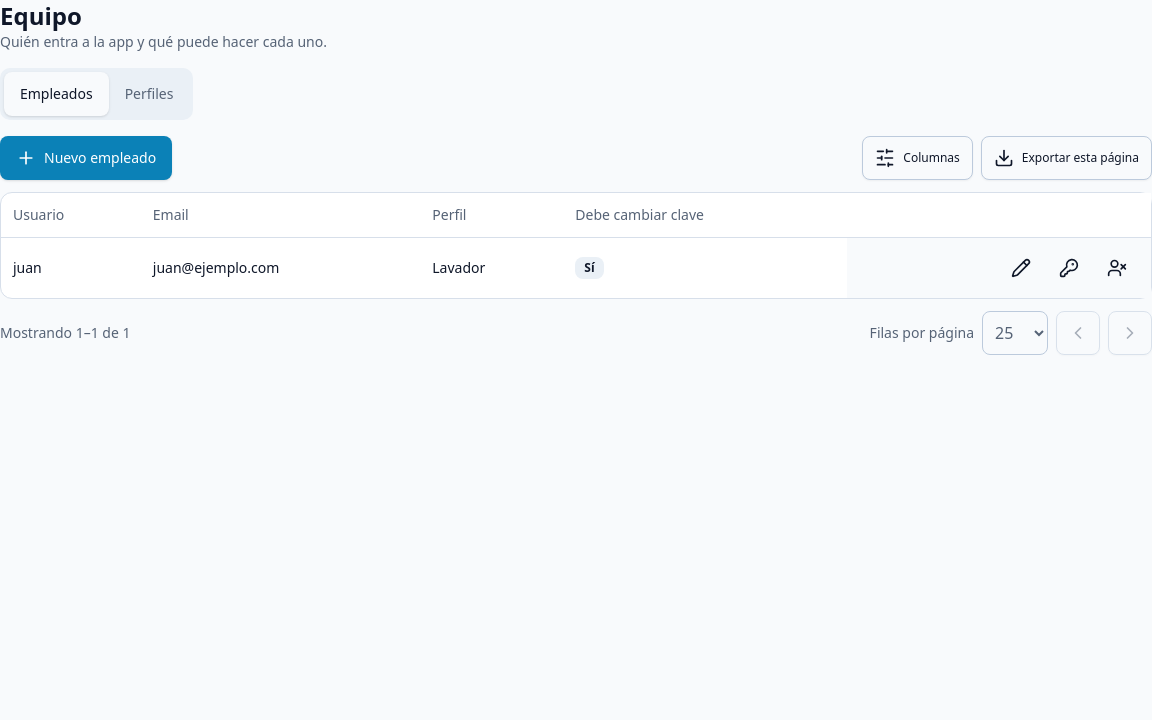
Empleados › edición: email vacío se manda como null (lo borra)
Click the button named "Editar juan" at point(1021, 268), box [999,246,1043,290]
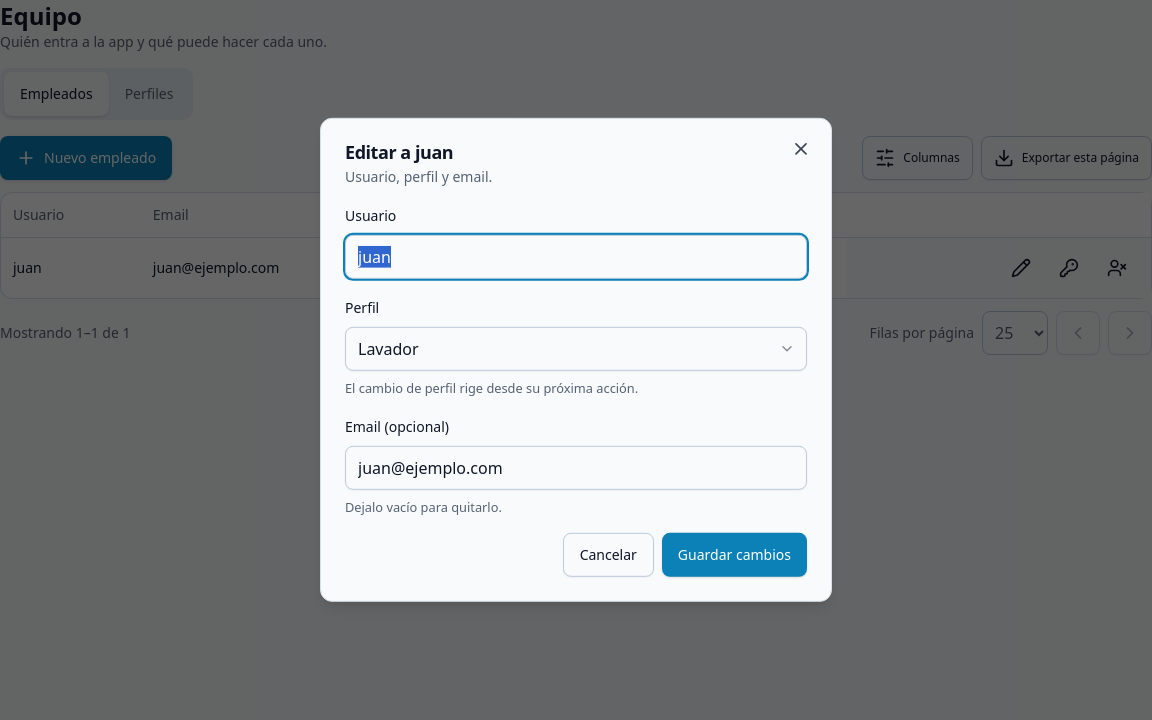
Result: the field labelled "Email (opcional)" holds "juan@ejemplo.com"
Clear the field labelled "Email (opcional)" at point(576, 468), box [345,446,807,490]
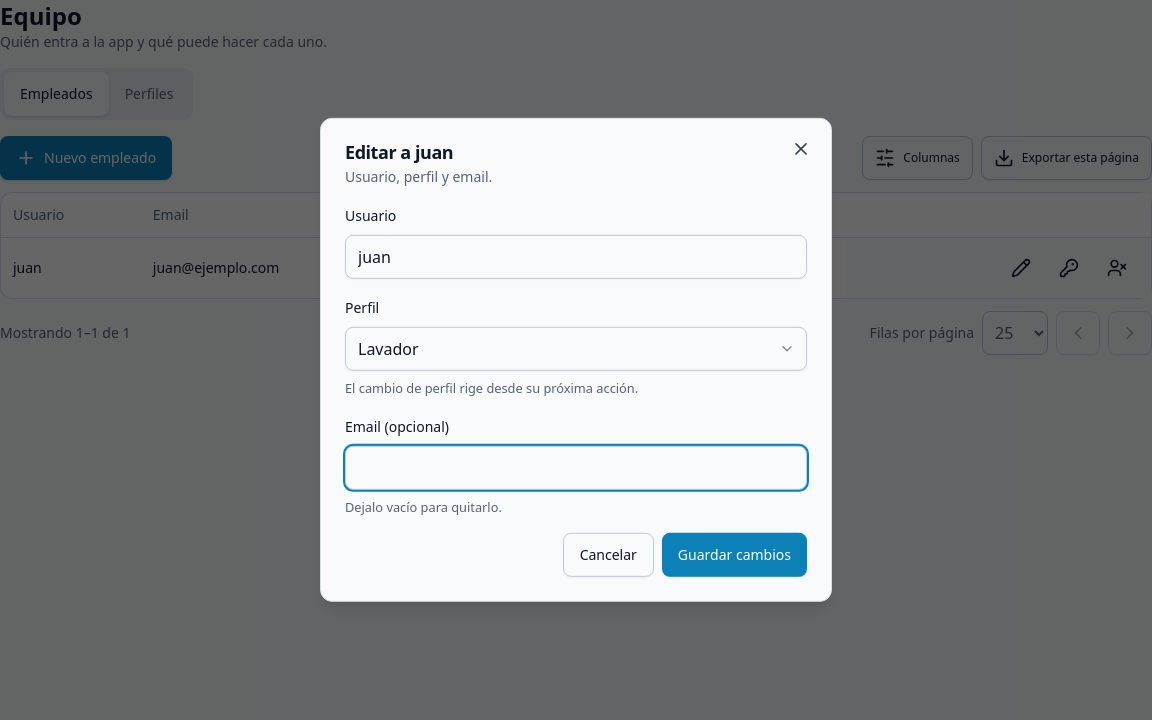
Select "Cajero" in the dropdown labelled "Perfil" at point(576, 349), box [345,327,807,371]
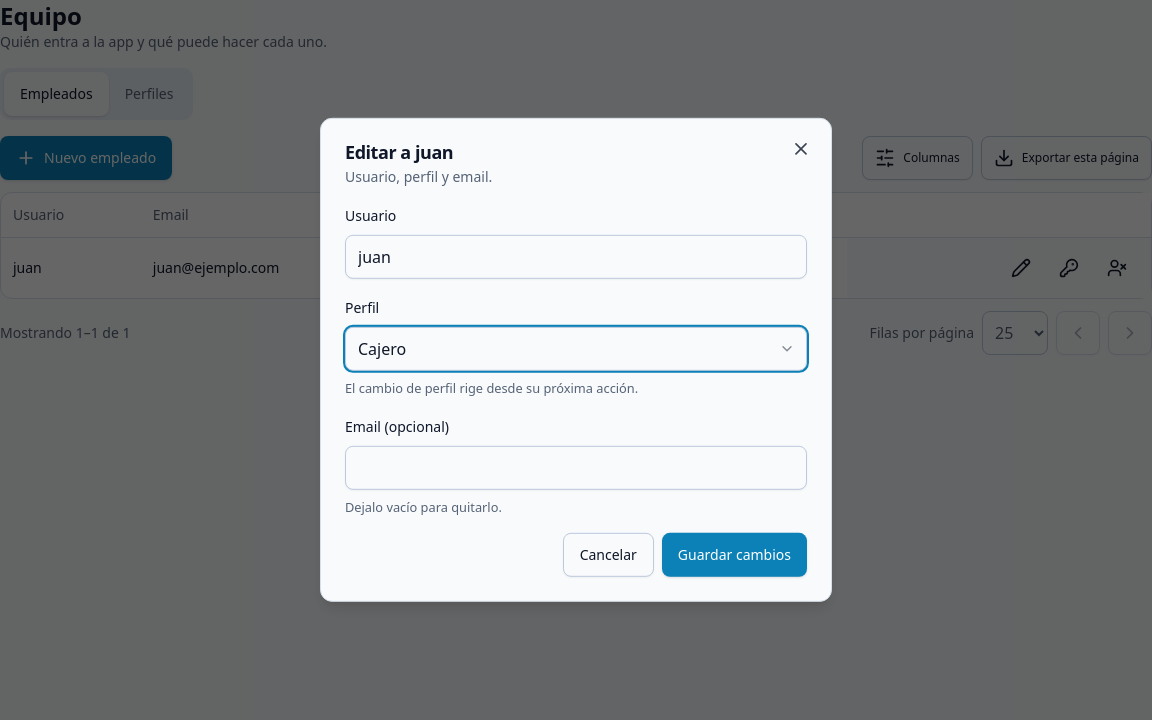
Click the button "Guardar cambios" at point(734, 555), box [662,533,807,577]
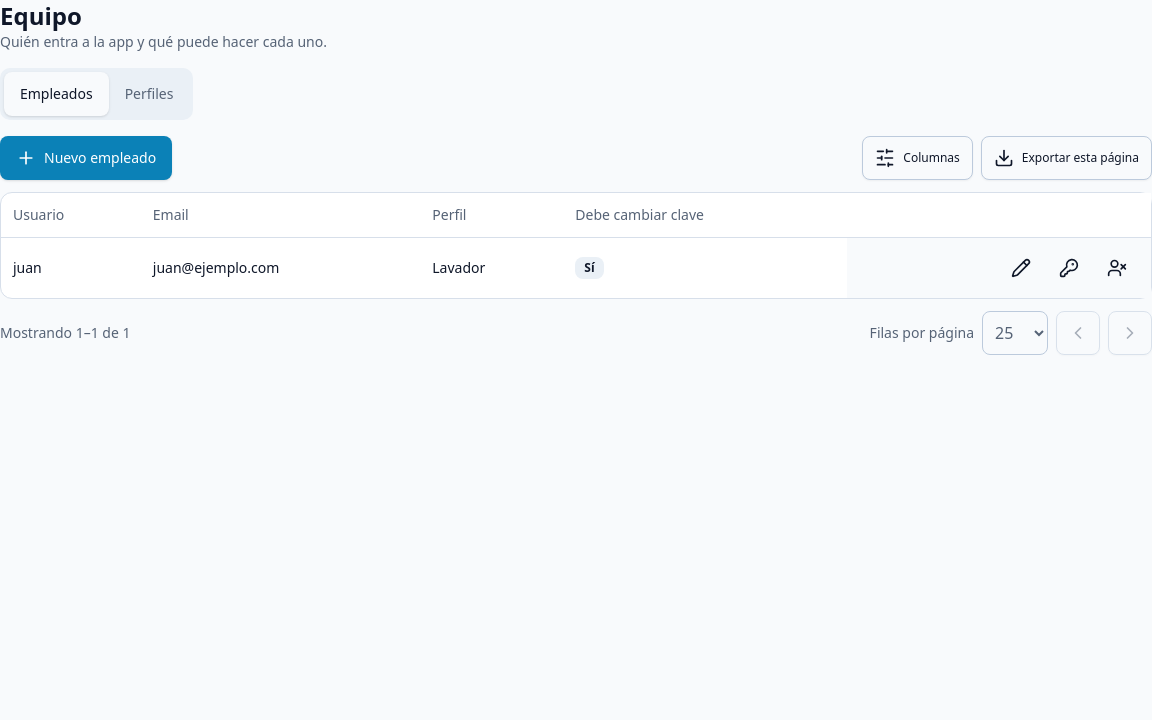
Result: the dialog is gone
